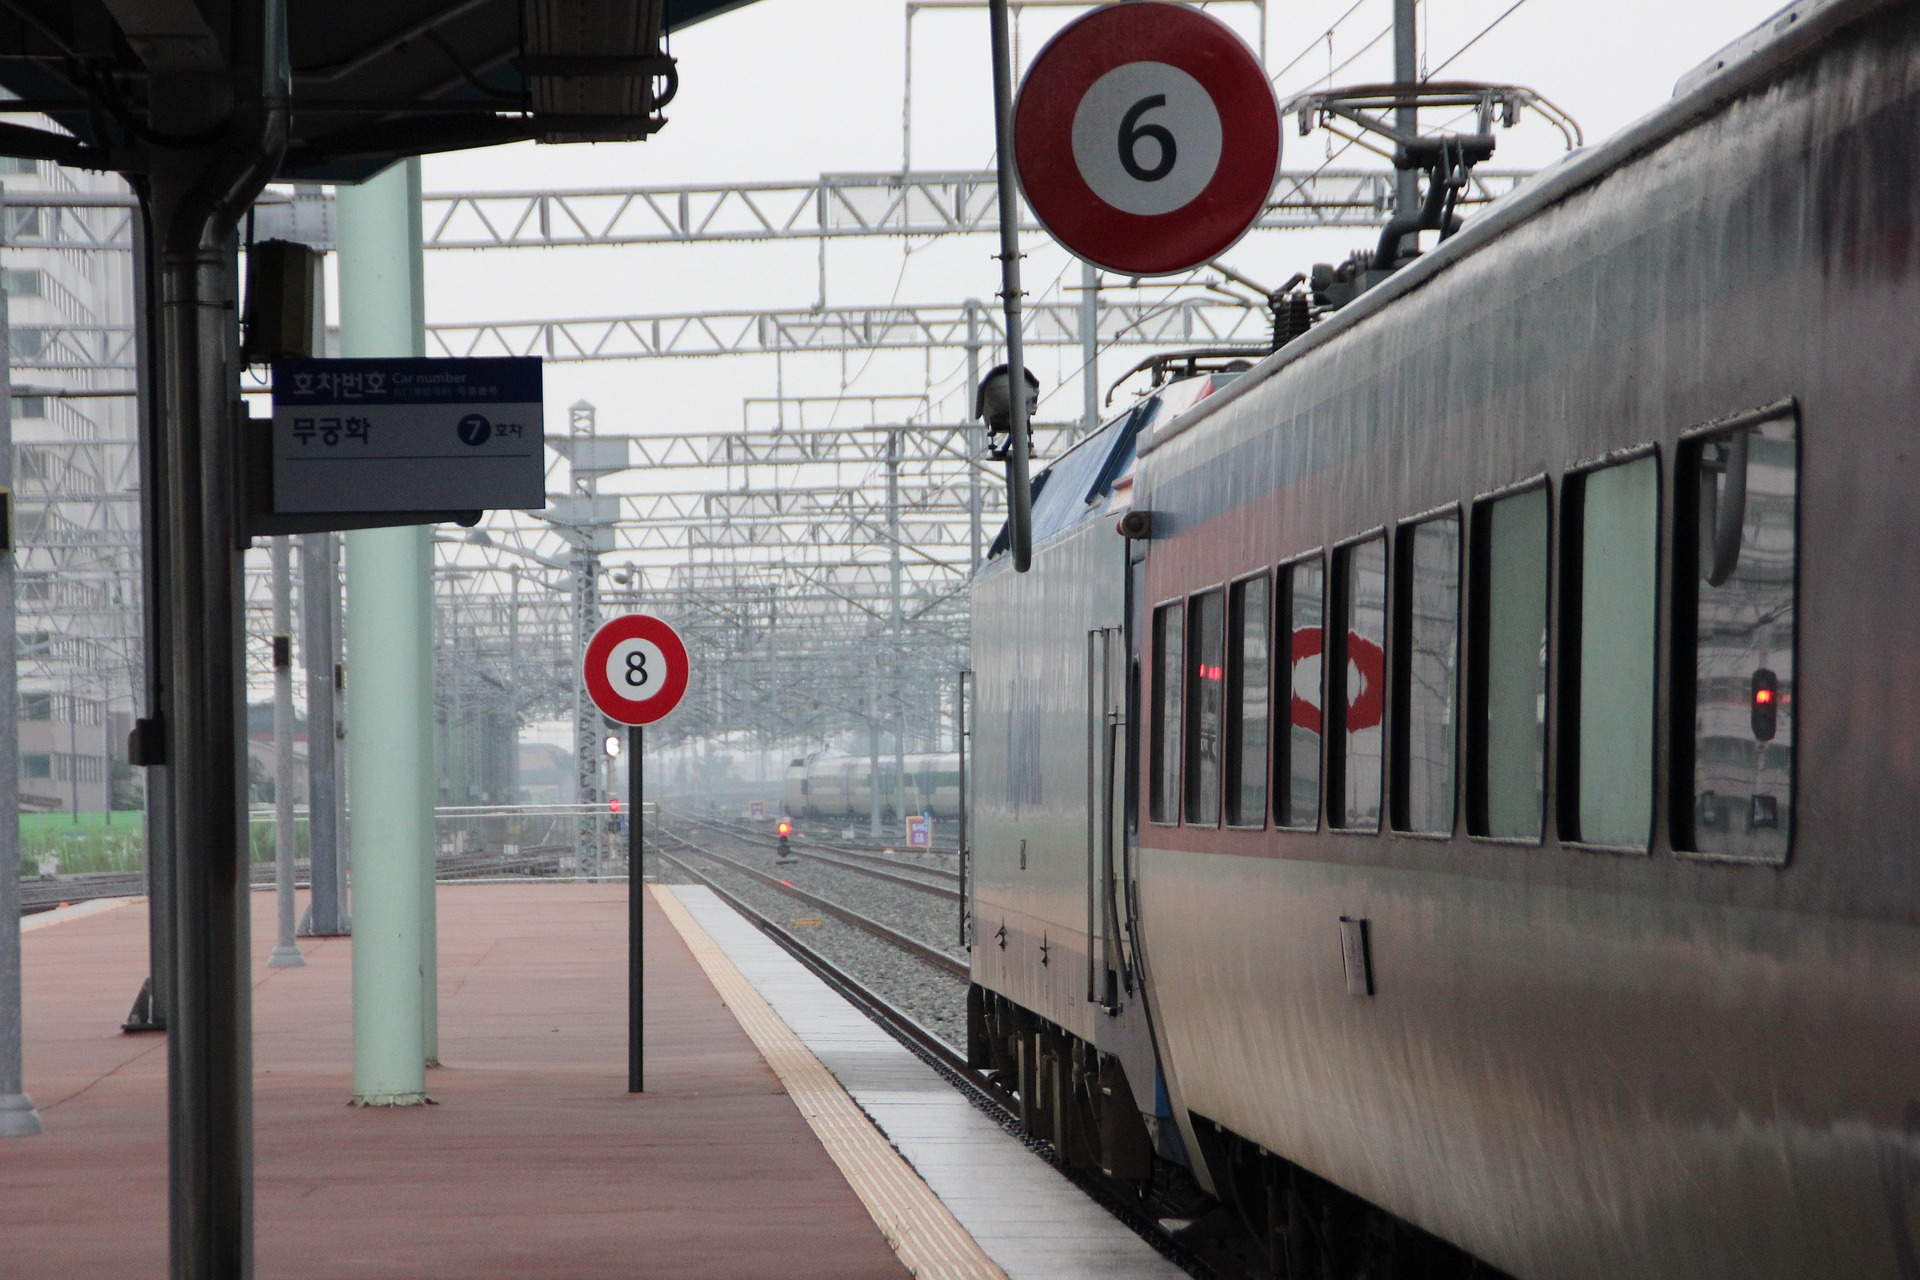train1: (944, 4, 1913, 1270)
